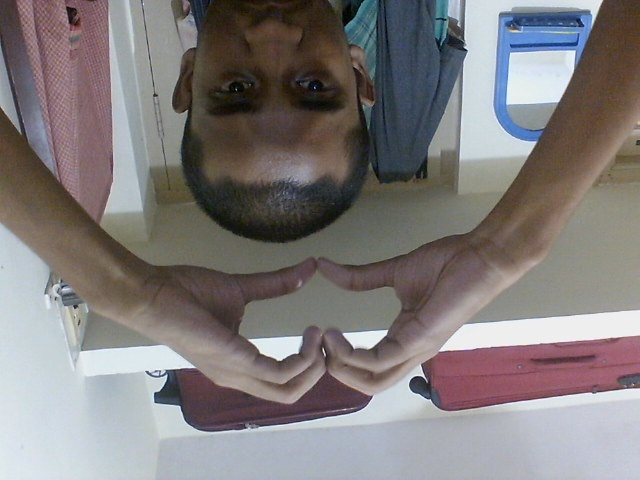hand: (132, 250, 323, 429), (318, 230, 492, 405)
